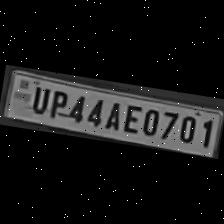0: (174, 110, 200, 146), (138, 105, 162, 138)
1: (194, 114, 218, 150)
4: (63, 90, 88, 124), (82, 93, 106, 126)
7: (155, 108, 180, 142)
A: (100, 96, 124, 132)
E: (119, 100, 144, 136)
P: (46, 86, 70, 119)
U: (27, 83, 51, 116)
